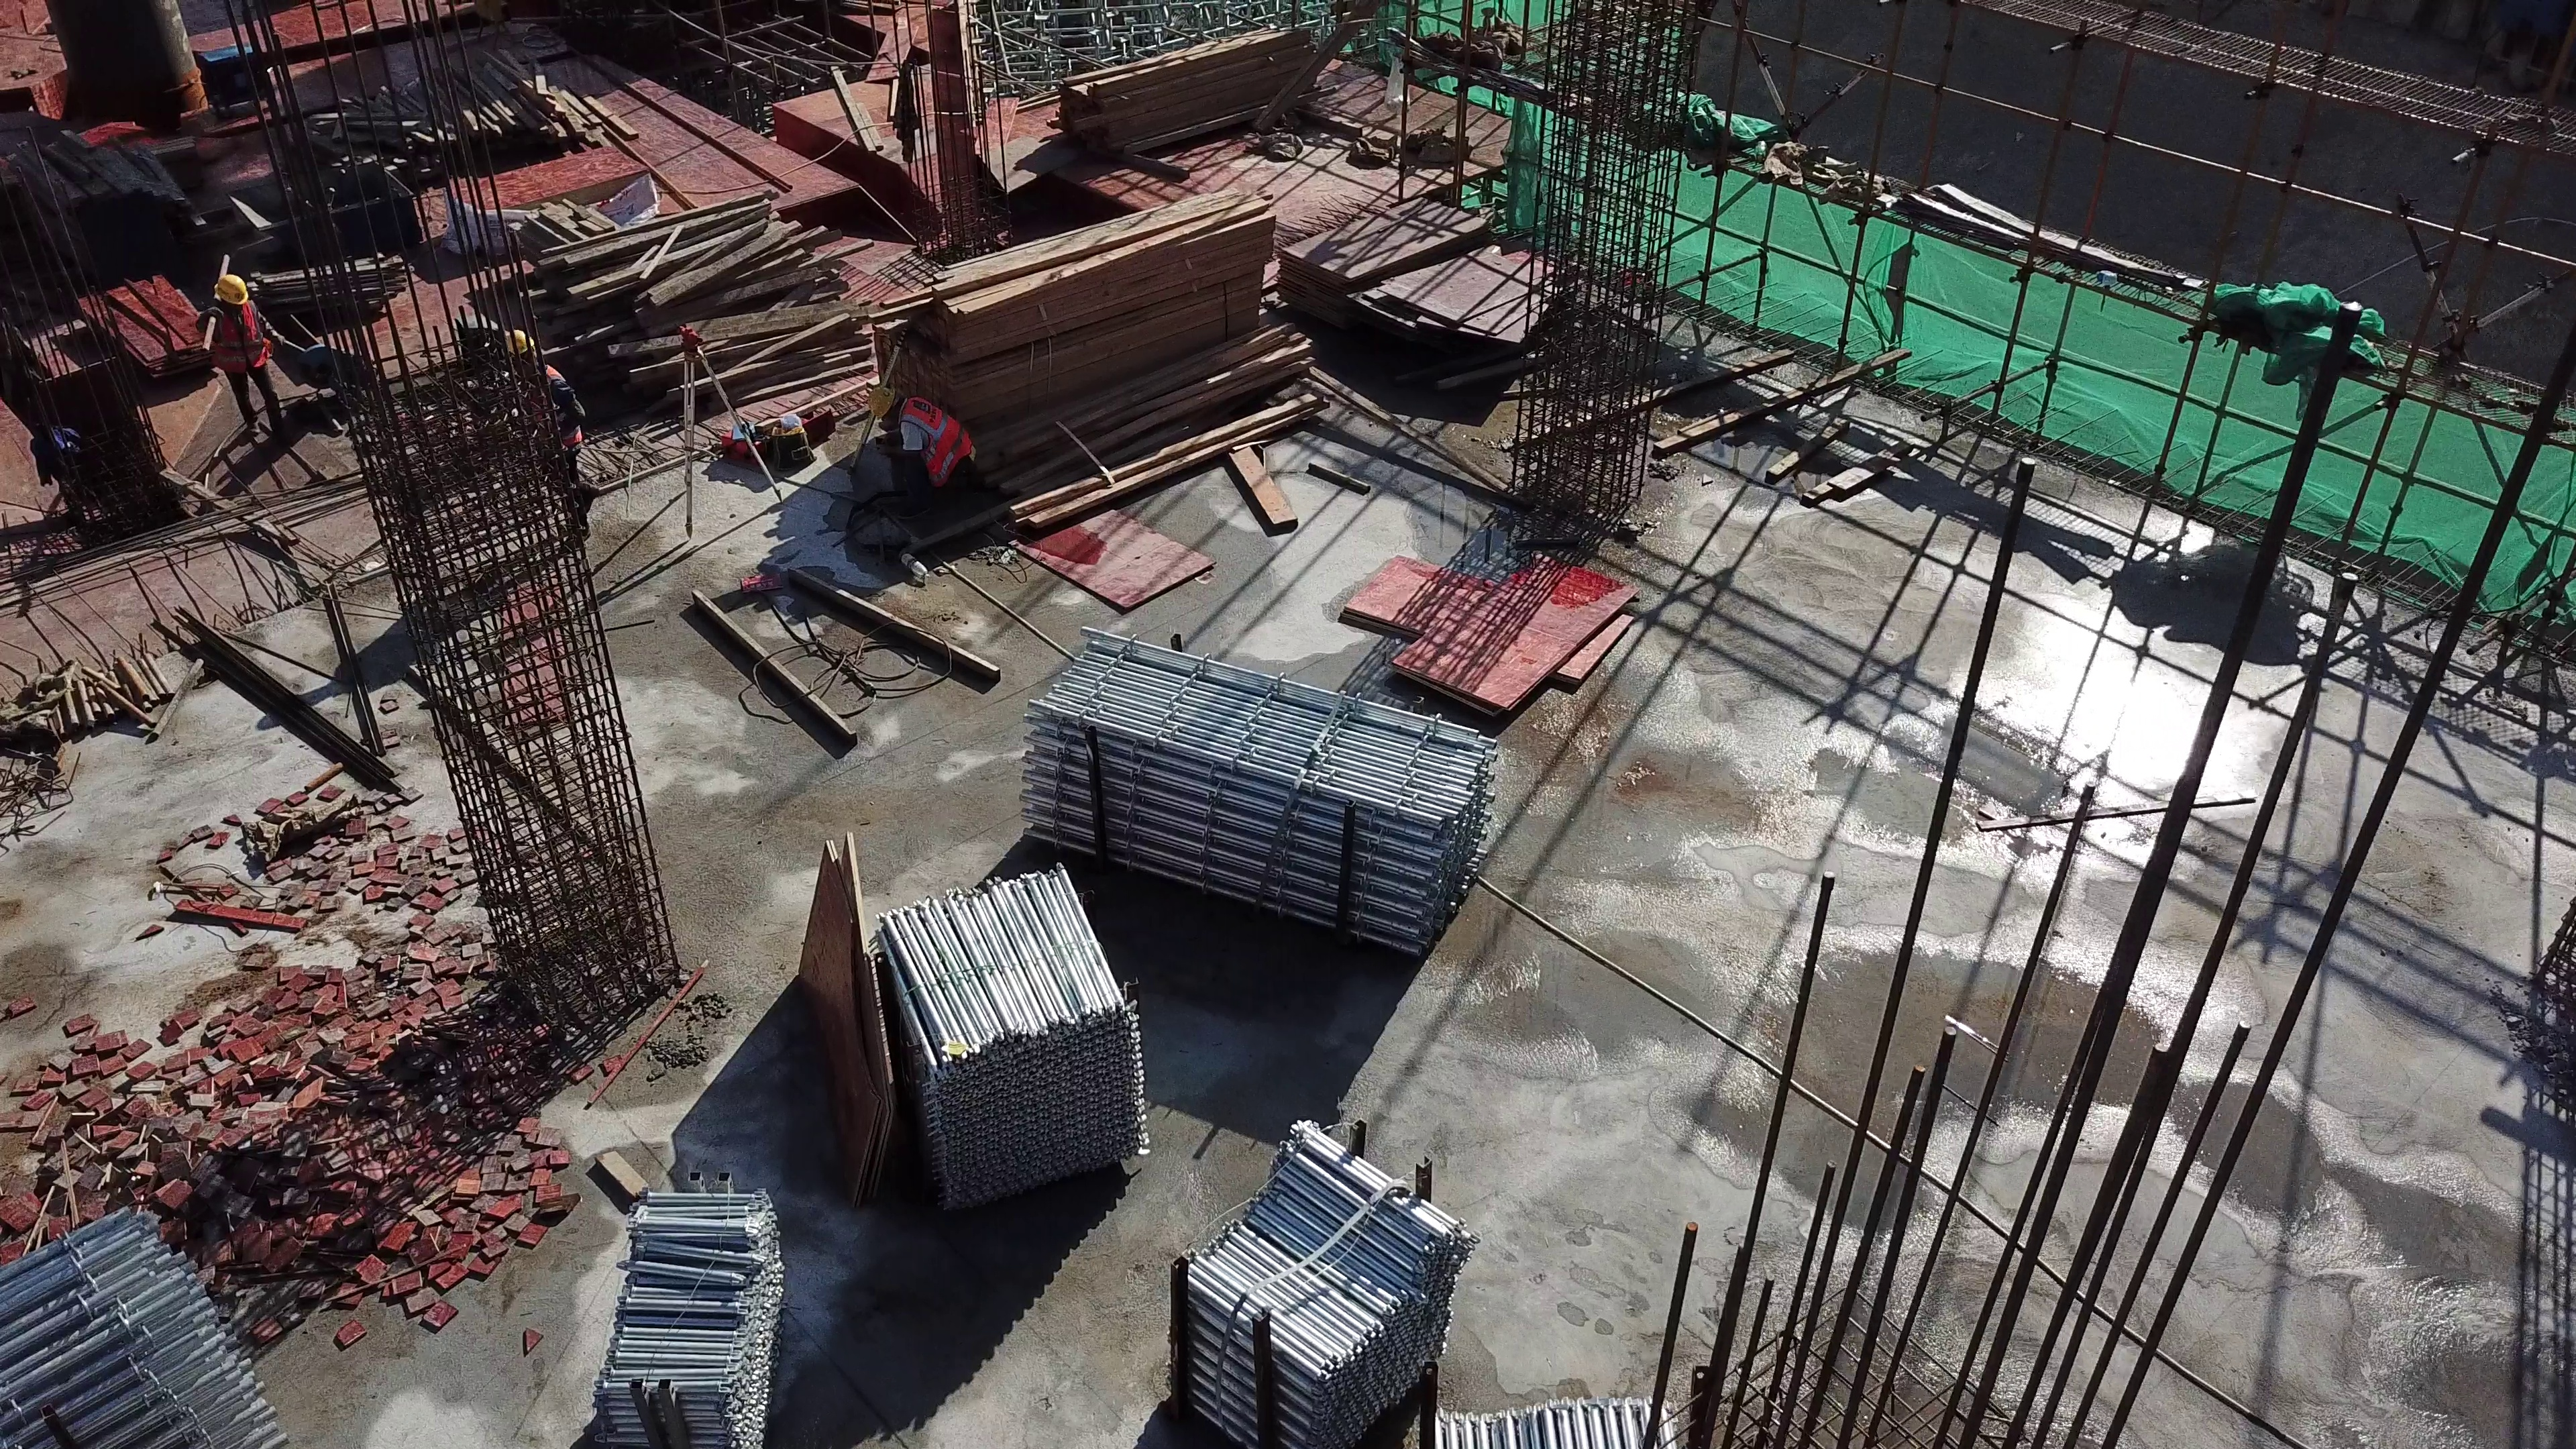board: (450, 136, 636, 242)
cutter: (286, 341, 357, 390)
helmet: (212, 276, 249, 308), (498, 329, 536, 357), (869, 386, 896, 417)
hopper: (217, 166, 427, 261)
person: (498, 331, 603, 538), (199, 275, 287, 442), (869, 387, 975, 506)
scaffold: (1022, 628, 1489, 942), (873, 867, 1151, 1197), (1167, 1116, 1450, 1436), (2, 1213, 292, 1444), (599, 1171, 784, 1447), (1432, 1392, 1661, 1449)
vest: (902, 400, 973, 484), (211, 305, 269, 372)
wood: (925, 193, 1281, 429), (1051, 34, 1301, 164)
